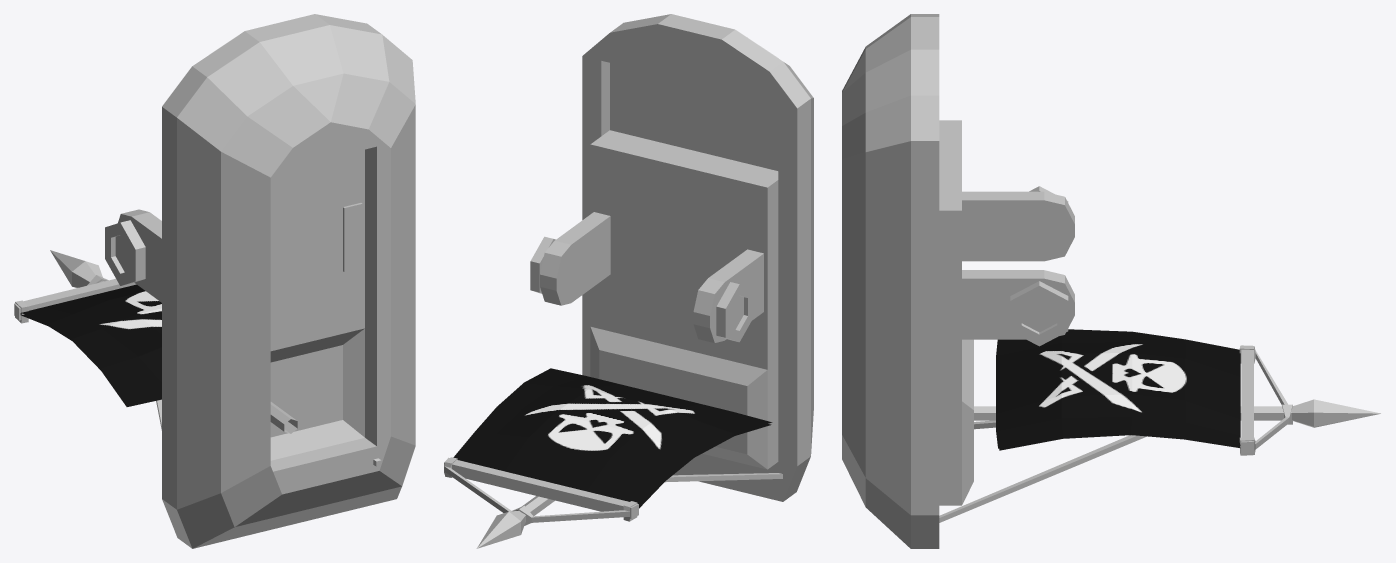
File: pirate_cannon_my_ship_1.fbx
3 views of the same model, side by side, from view 1: azimuth 30°, elevation 25°; view 2: azimuth 150°, elevation 25°; view 3: azimuth 270°, elevation 25° (orthographic). The views are drawn at different scales.
Parts seen in each view (by area): view 1: Cube.261; view 2: Cube.261; view 3: Cube.261.
Boxes of the visible parts, x1,y1,x2,y2 form: Cube.261: [14, 14, 415, 548]; Cube.261: [444, 14, 813, 548]; Cube.261: [842, 14, 1380, 548].
Bounding box in the file's own units: 215 × 414 × 433.
